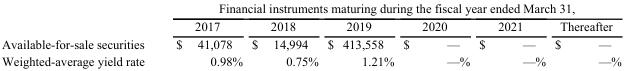table: (0, 1, 620, 68)
table column: (0, 1, 159, 68), (159, 1, 246, 68), (246, 1, 322, 68), (322, 1, 398, 68), (473, 1, 549, 68), (398, 1, 473, 68), (549, 1, 620, 68)
table column header: (0, 1, 620, 34)
table row: (0, 34, 620, 52), (0, 17, 620, 34), (0, 1, 620, 17), (0, 52, 620, 68)
table spanning cell: (159, 1, 620, 17)
